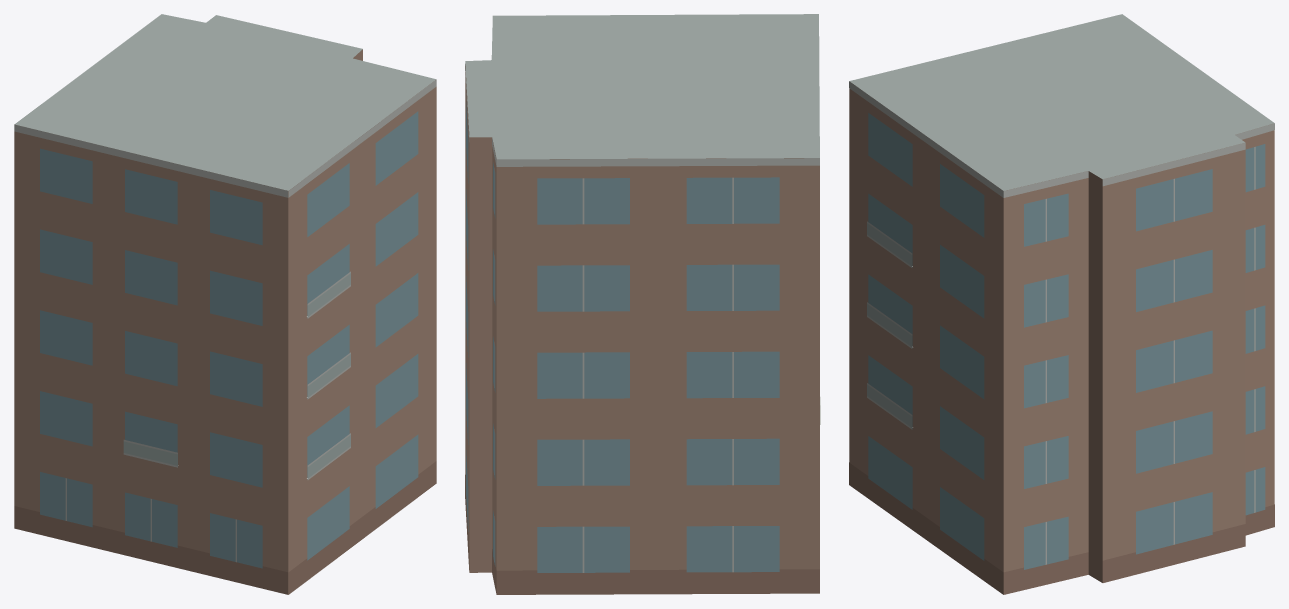
File: survey-upis-32627255.glb
The picture shows the model from 3 angles, left to right: view 1: azimuth 30°, elevation 25°; view 2: azimuth 150°, elevation 25°; view 3: azimuth 270°, elevation 25°; orthographic projection. The views are drawn at different scales.
Visible parts, largest first — view 1: survey-upis-32627255.tmp; view 2: survey-upis-32627255.tmp; view 3: survey-upis-32627255.tmp.
Boxes of the visible parts, left/top/right/bottom form: survey-upis-32627255.tmp: left=14, top=14, right=436, bottom=594; survey-upis-32627255.tmp: left=465, top=14, right=820, bottom=594; survey-upis-32627255.tmp: left=849, top=14, right=1274, bottom=594.
Size of the model in its own units: 13.17 by 14 by 13.38.
